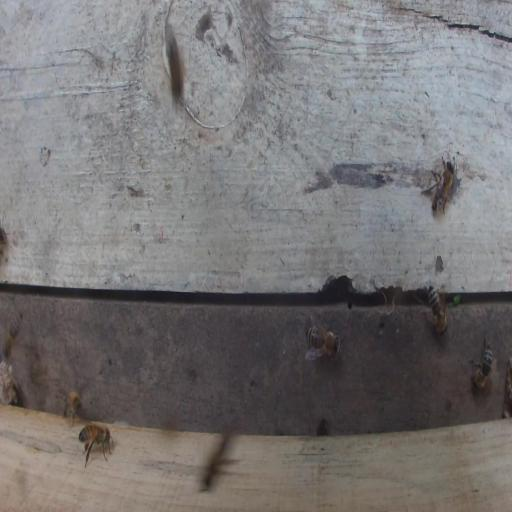Insects: (425, 151, 459, 215), (78, 422, 115, 467), (420, 282, 449, 336), (163, 22, 183, 97), (305, 323, 342, 361), (468, 334, 492, 391), (2, 311, 23, 360), (59, 389, 82, 422), (502, 359, 512, 417)
